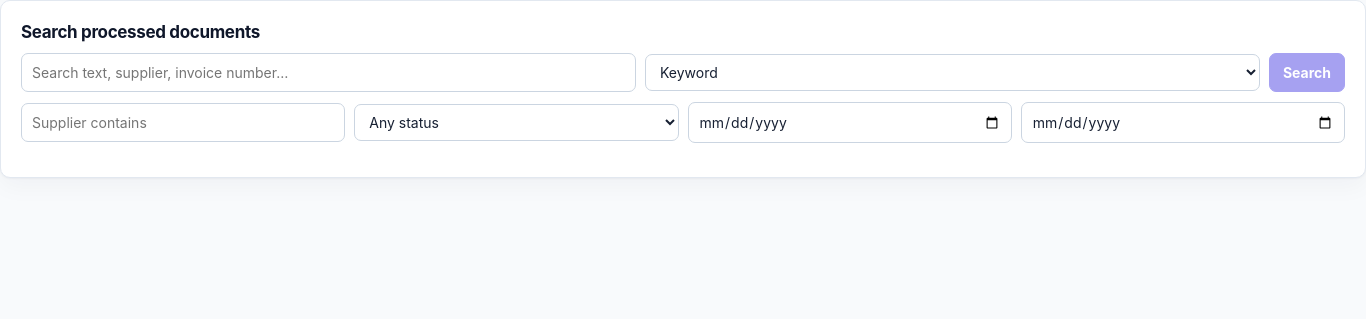
Test case: Search › passes the chosen mode and filters to the API
The image size is (1366, 319).
Type "acme" into the field named "search query". click: coordinates (328, 73)
box: [21,53,636,92]
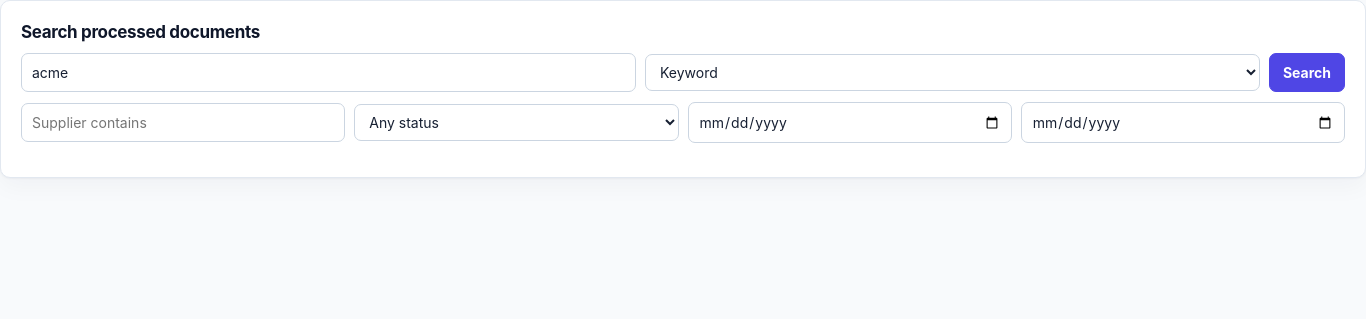
Select "Semantic (AI)" in the dropdown named "search mode". click: coordinates (952, 73)
box: [645,54,1260,91]
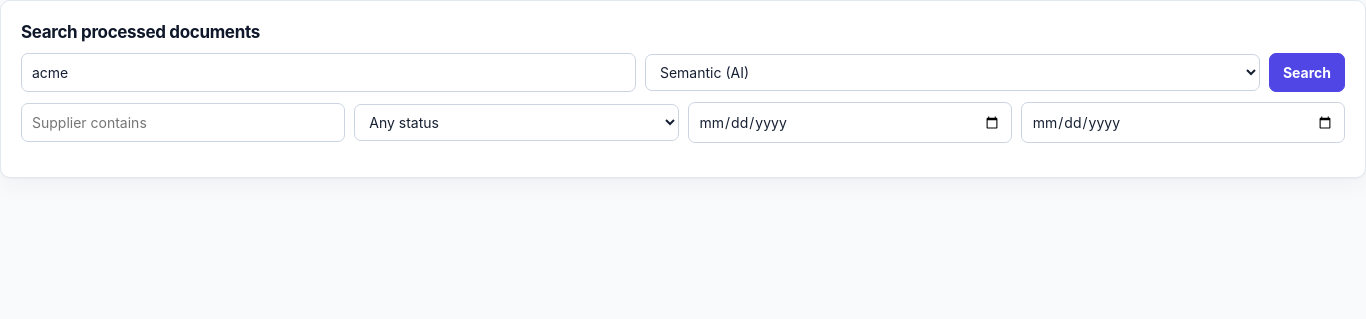
Click the button "Search". click: coordinates (1307, 73)
box: [1269,53,1345,92]
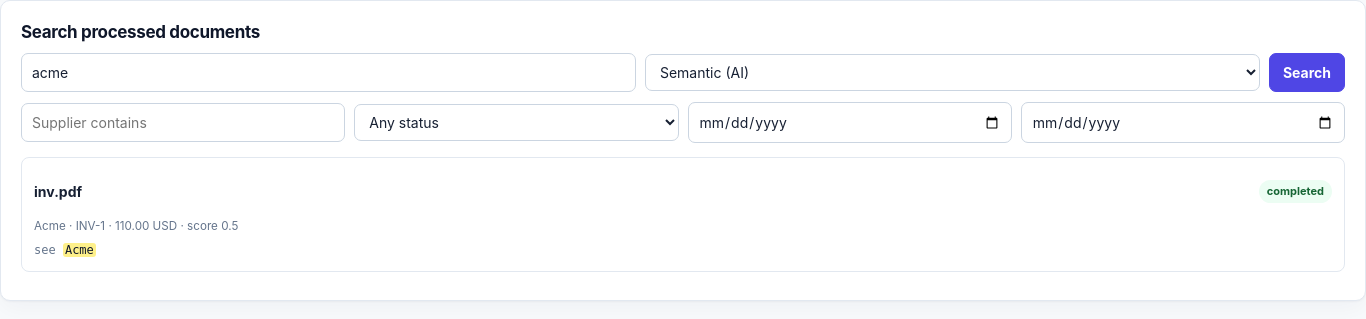
Result: the text "inv.pdf" is shown at [34,181,82,202]
